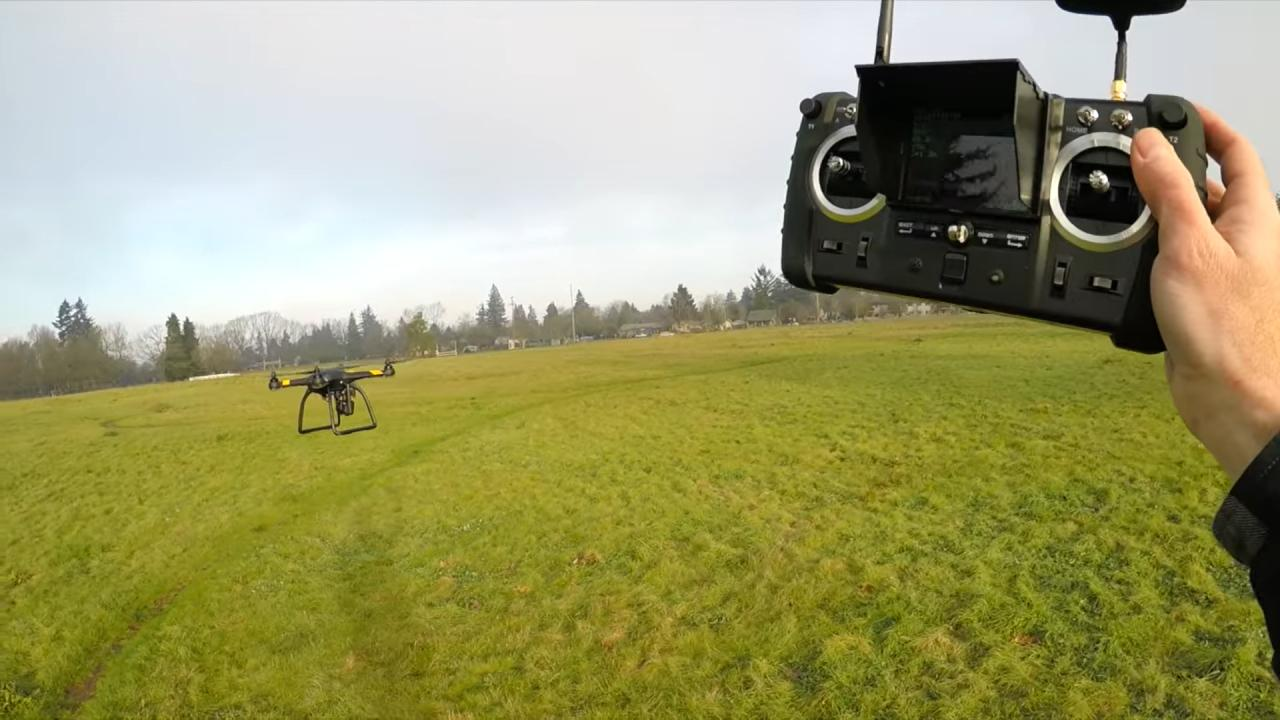Drone: (260, 350, 432, 448)
